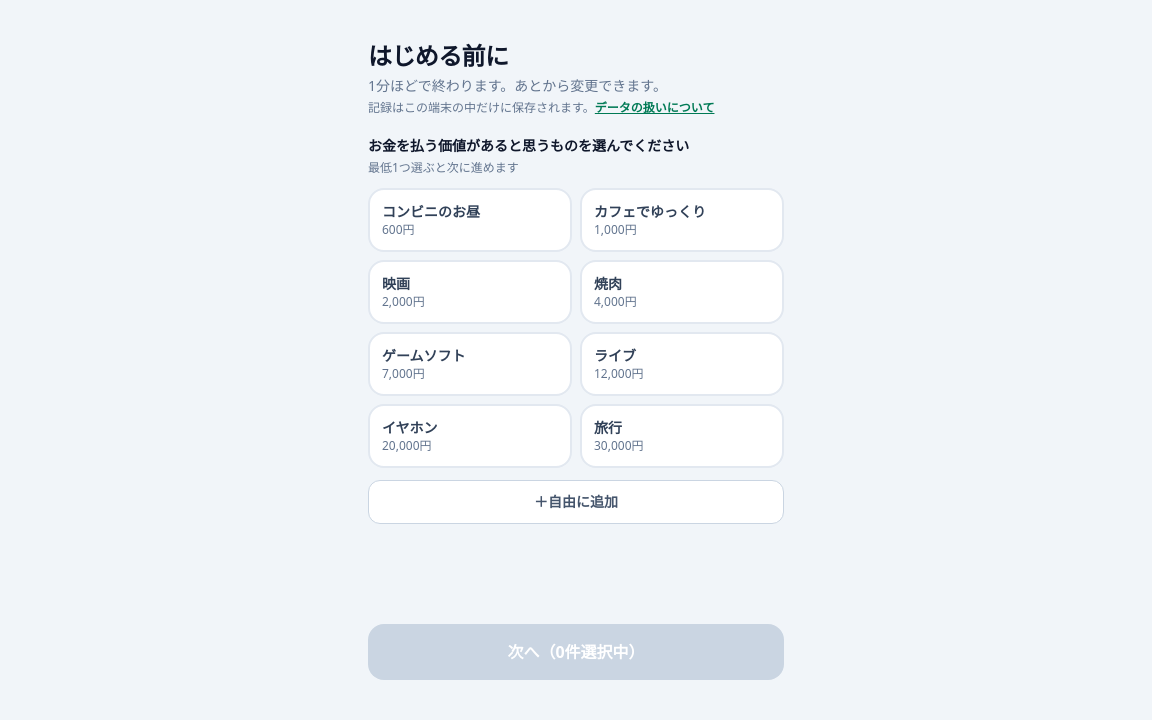
it: オンボーディング › 候補から選んだ価値尺度が保存され、目標をスキップして完了できる
Click the button "焼肉 4,000円".
click(682, 292)  # box 580,260 -> 784,324
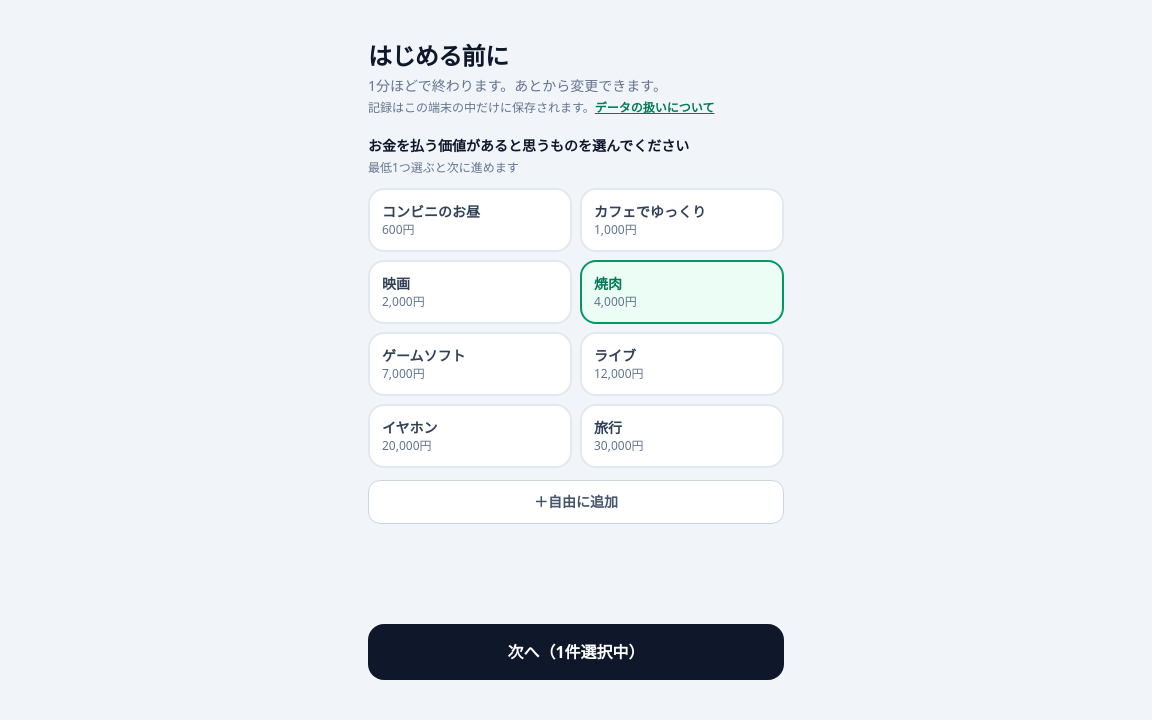
Click the button "ゲームソフト 7,000円".
click(470, 364)  # box 368,332 -> 572,396
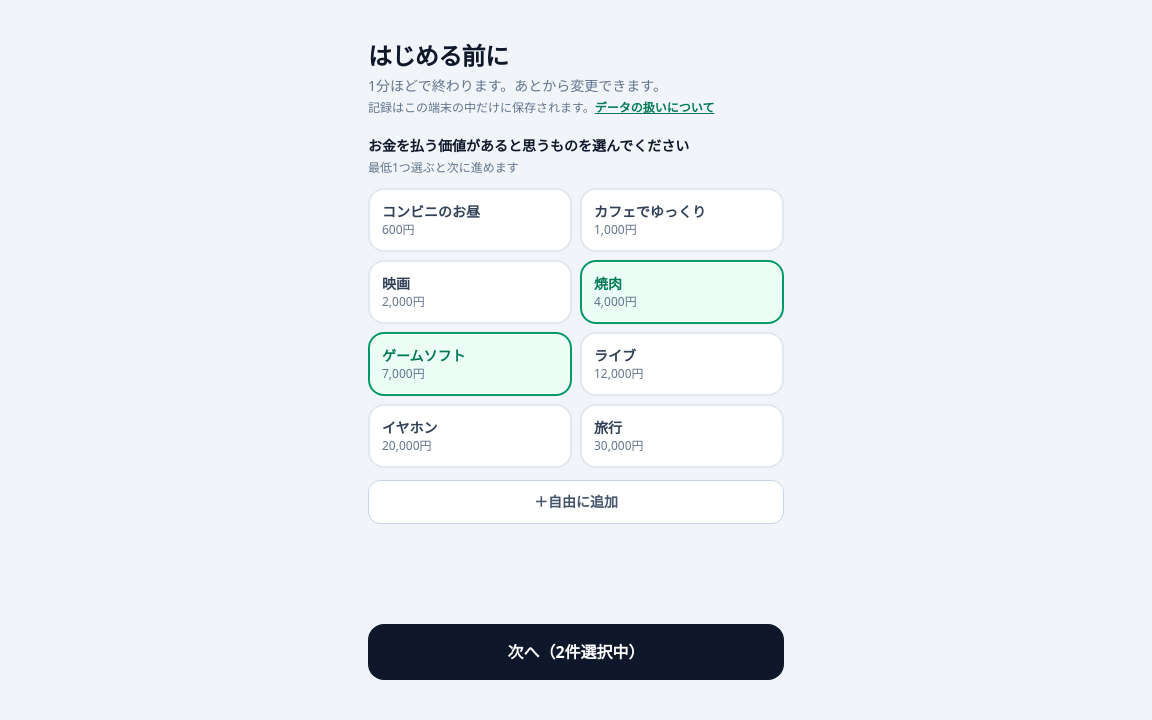
Click the button "次へ（2件選択中）".
click(576, 652)  # box 368,624 -> 784,680
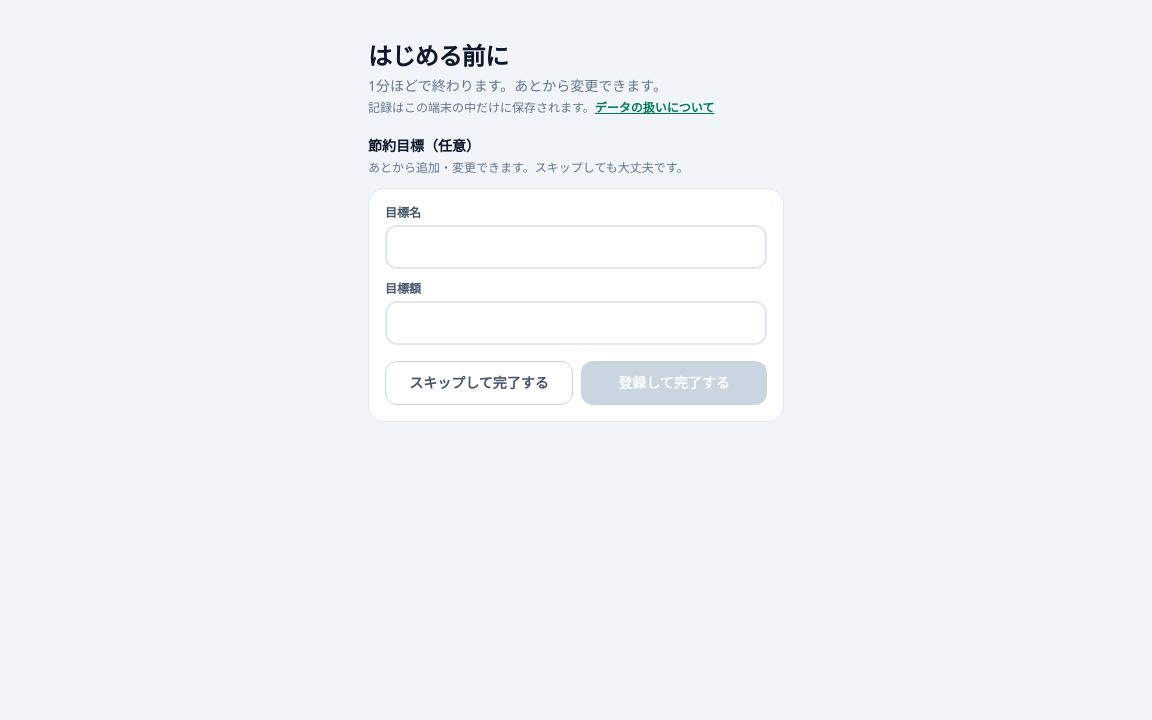
expect the heading "節約目標（任意）" is shown: met, box 368,136 -> 480,155
Click the button "スキップして完了する".
click(479, 383)  # box 385,361 -> 573,405
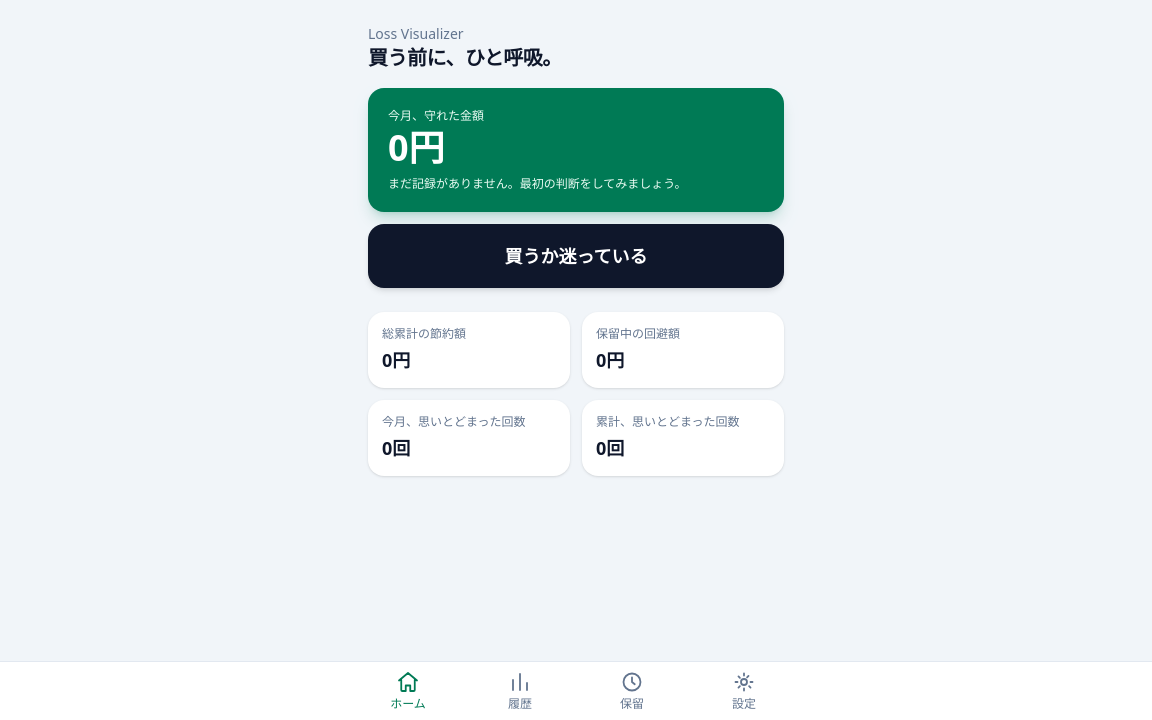
expect the link "買うか迷っている" is shown: met, box 368,224 -> 784,288
